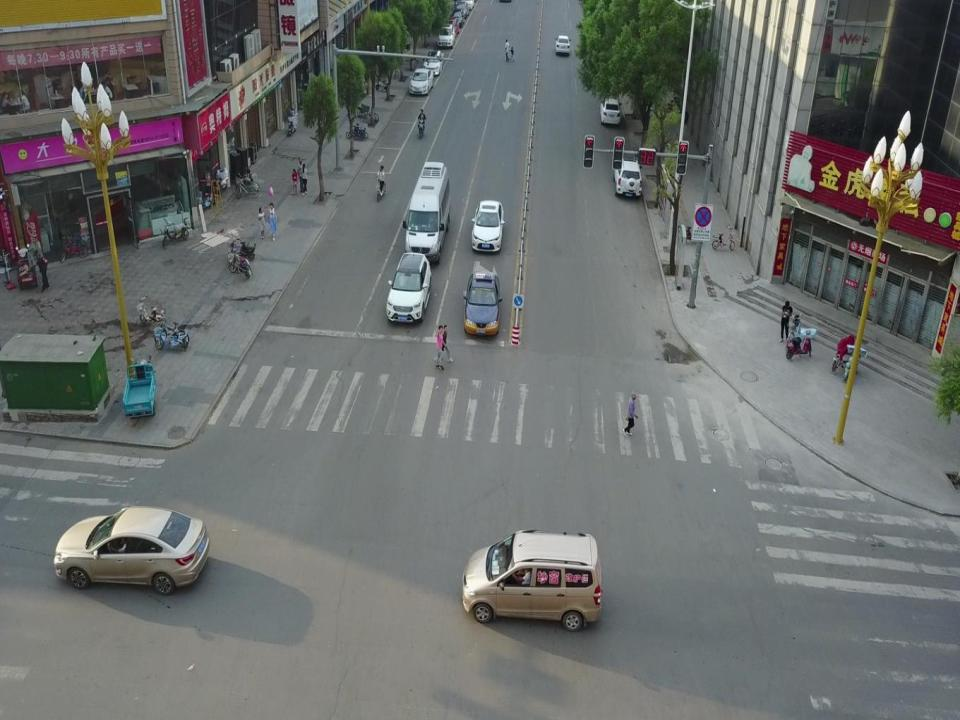car: (460, 528, 603, 632), (52, 504, 209, 595), (386, 252, 431, 324), (463, 271, 503, 336), (471, 200, 505, 253), (613, 158, 643, 200), (409, 68, 435, 95), (599, 98, 623, 126), (423, 51, 443, 76), (437, 23, 455, 49), (444, 16, 460, 38), (555, 35, 571, 55), (454, 0, 469, 19), (450, 8, 464, 28)
van: (402, 161, 451, 265)
